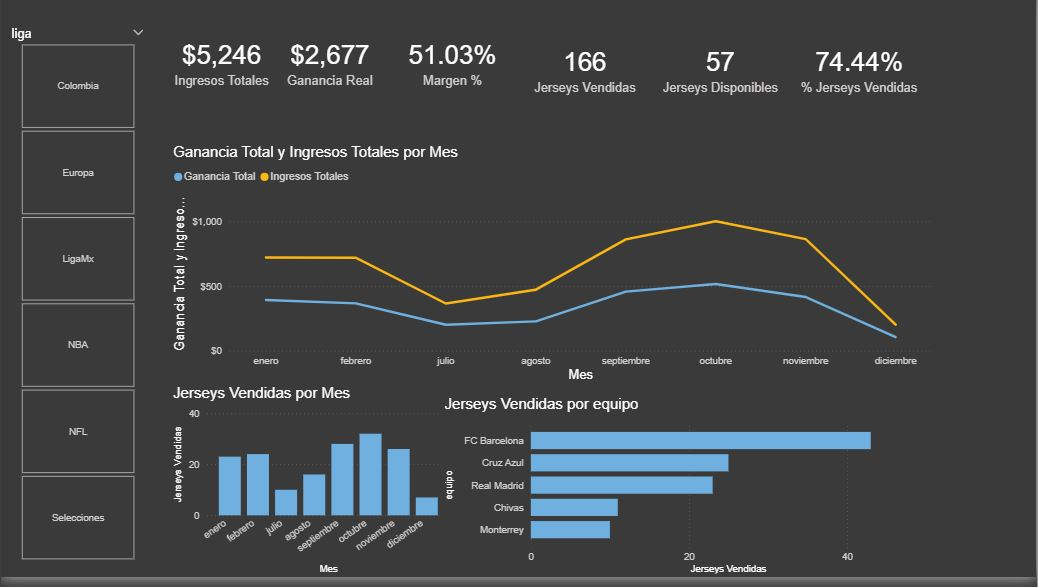

This screenshot's page, from the dashboard's own definition file:
{"tool":"powerbi","page":{"name":"Sales Overview","canvas":[1280,720],"ordinal":0},"visuals":[{"type":"card","fields":{"Values":["KPIS Base.Ingresos Totales"]},"box":[207.7,16,129.4,131],"z":0},{"type":"lineChart","fields":{"Y":["KPIS Base.Ganancia Total","KPIS Base.Ingresos Totales"],"Category":["data_jerseys_cleaned.Fecha de venta.Variación.Jerarquía de fechas.Mes"]},"box":[207.7,183.7,947.4,298.8],"z":1000},{"type":"card","fields":{"Values":["KPIS Base.Jerseys Vendidas"]},"box":[640.7,33.6,159.8,113.4],"z":2000},{"type":"columnChart","fields":{"Category":["data_jerseys_cleaned.Fecha de venta.Variación.Jerarquía de fechas.Mes"],"Y":["KPIS Base.Jerseys Vendidas"]},"box":[207.7,482.5,351.5,238.1],"z":3000},{"type":"card","fields":{"Values":["KPIS Base.Ganancia Real"]},"box":[337.1,16,137.4,131],"z":4000},{"type":"clusteredBarChart","fields":{"Category":["data_jerseys_cleaned.equipo"],"Y":["KPIS Base.Jerseys Vendidas"]},"box":[543.2,495.3,611.9,225.3],"z":5000},{"type":"card","fields":{"Values":["KPIS Base.Margen %"]},"box":[474.5,17.6,166.2,129.4],"z":6000},{"type":"card","fields":{"Values":["KPIS Base.Jerseys Disponibles"]},"box":[800.4,33.6,175.7,113.4],"z":7000},{"type":"slicer","fields":{"Values":["data_jerseys_cleaned.liga"]},"box":[0,33.6,188.5,671],"z":8000},{"type":"card","fields":{"Values":["KPIS Base.% Jerseys Vendidas"]},"box":[966.6,33.6,188.5,113.4],"z":9000}]}

Visuals, with their boxes in screenshot pixels (x1, y1, x2, y2), scaled from the page's 1280x720 canvas onto the 1038x587 screenshot:
card - KPIS Base.Ingresos Totales: rect(168, 13, 273, 120)
lineChart - KPIS Base.Ganancia Total x KPIS Base.Ingresos Totales: rect(168, 150, 937, 393)
card - KPIS Base.Jerseys Vendidas: rect(520, 27, 649, 120)
columnChart - data_jerseys_cleaned.Fecha de venta.Variación.Jerarquía de fechas.Mes x KPIS Base.Jerseys Vendidas: rect(168, 393, 453, 586)
card - KPIS Base.Ganancia Real: rect(273, 13, 385, 120)
clusteredBarChart - data_jerseys_cleaned.equipo x KPIS Base.Jerseys Vendidas: rect(441, 404, 937, 586)
card - KPIS Base.Margen %: rect(385, 14, 520, 120)
card - KPIS Base.Jerseys Disponibles: rect(649, 27, 792, 120)
slicer - data_jerseys_cleaned.liga: rect(0, 27, 153, 574)
card - KPIS Base.% Jerseys Vendidas: rect(784, 27, 937, 120)
